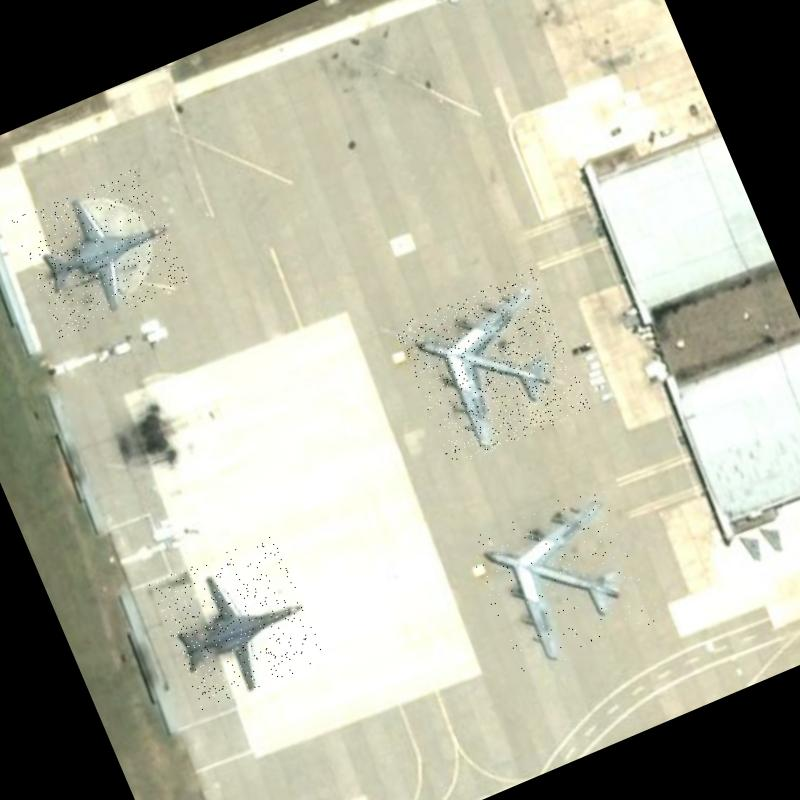A10: (148, 532, 326, 712), (10, 165, 191, 339)
A8: (392, 268, 592, 468), (464, 481, 660, 678)
